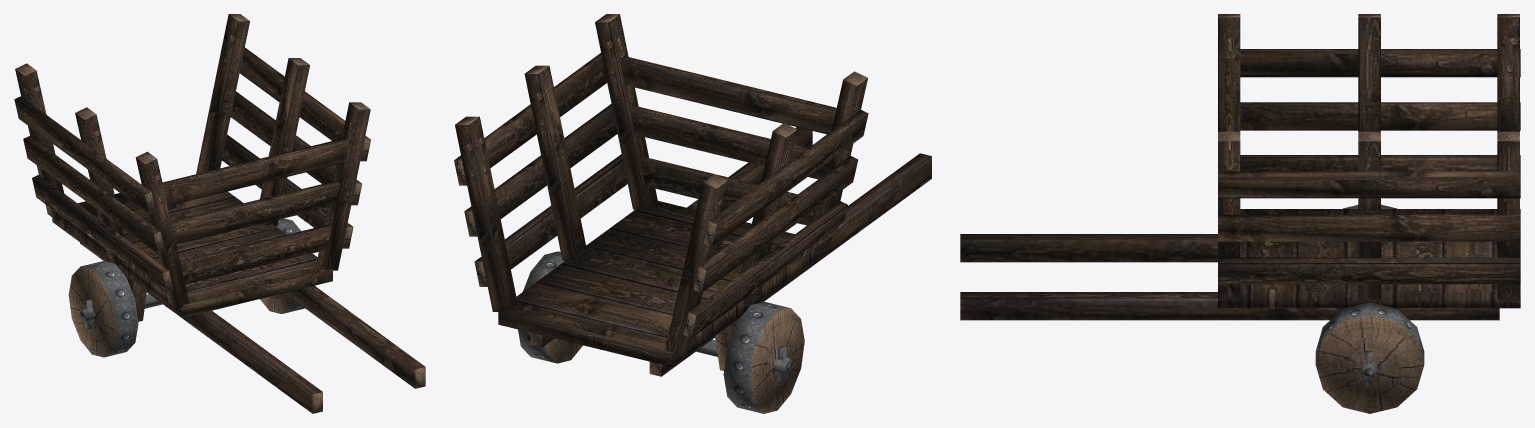
The model's file is WV Cart 01.obj.
The picture shows the model from 3 angles, left to right: view 1: azimuth 30°, elevation 25°; view 2: azimuth 150°, elevation 25°; view 3: azimuth 270°, elevation 25°; orthographic projection. The views are drawn at different scales.
Parts seen in each view (by area): view 1: side_boards, side_posts, front_boards, main_deck, handles, wheels, axle; view 2: side_boards, side_posts, main_deck, front_boards, wheels, handles, axle; view 3: side_boards, handles, side_posts, main_deck, wheels, front_boards.
Boxes of the visible parts, left/top/right/bottom form: side_boards: left=14, top=47, right=370, bottom=292; side_posts: left=15, top=14, right=370, bottom=309; front_boards: left=162, top=138, right=348, bottom=284; main_deck: left=52, top=191, right=332, bottom=317; handles: left=80, top=242, right=425, bottom=413; wheels: left=68, top=218, right=304, bottom=357; axle: left=80, top=261, right=162, bottom=323; side_boards: left=454, top=53, right=868, bottom=338; side_posts: left=455, top=14, right=867, bottom=357; main_deck: left=498, top=201, right=824, bottom=366; front_boards: left=619, top=56, right=836, bottom=225; wheels: left=518, top=251, right=804, bottom=413; handles: left=530, top=127, right=931, bottom=376; axle: left=696, top=301, right=792, bottom=373; side_boards: left=1218, top=49, right=1520, bottom=284; handles: left=960, top=234, right=1499, bottom=320; side_posts: left=1218, top=14, right=1519, bottom=300; main_deck: left=1218, top=209, right=1520, bottom=308; wheels: left=1315, top=204, right=1424, bottom=413; front_boards: left=1225, top=58, right=1234, bottom=131.
Size of the model in its own units: 27.99 by 28.87 by 51.83.
